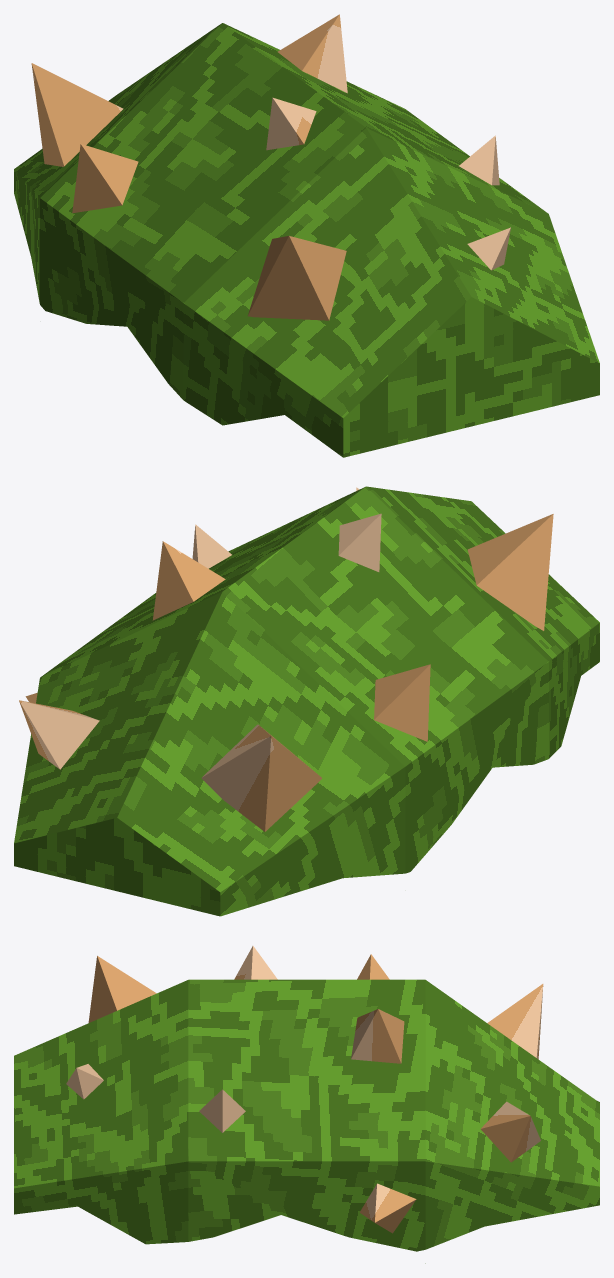
The model's file is Fly_Trap_Arm_Top.fbx.
3 renders of one model, top to bottom at view 1: azimuth 30°, elevation 25°; view 2: azimuth 150°, elevation 25°; view 3: azimuth 270°, elevation 25°, orthographic. The views are drawn at different scales.
Visible parts, largest first — view 1: Fly_Trap_Arm_Top; view 2: Fly_Trap_Arm_Top; view 3: Fly_Trap_Arm_Top.
Boxes of the visible parts, box(x1,y1,x2,y2) form: Fly_Trap_Arm_Top: box(14, 14, 599, 457); Fly_Trap_Arm_Top: box(14, 486, 599, 916); Fly_Trap_Arm_Top: box(14, 946, 599, 1263).
Size of the model in its own units: 225 by 141 by 336.
